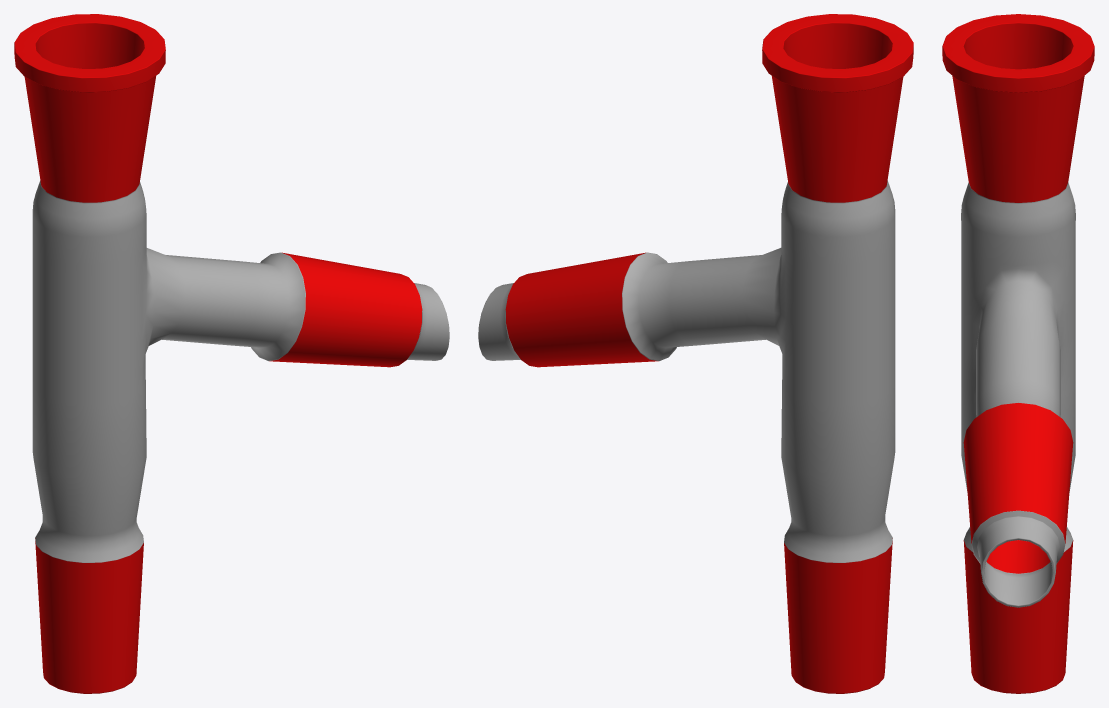
File: zlt.fbx
3 views of the same model, side by side, from view 1: azimuth 30°, elevation 25°; view 2: azimuth 150°, elevation 25°; view 3: azimuth 270°, elevation 25° (orthographic).
Visible parts, largest first — view 1: polySurface85; view 2: polySurface85; view 3: polySurface85.
Boxes of the visible parts, x1,y1,x2,y2 form: polySurface85: (14,14,449,693); polySurface85: (478,14,913,693); polySurface85: (942,14,1094,693).
Bounding box in the file's own units: 81.65 × 120 × 26.44.
